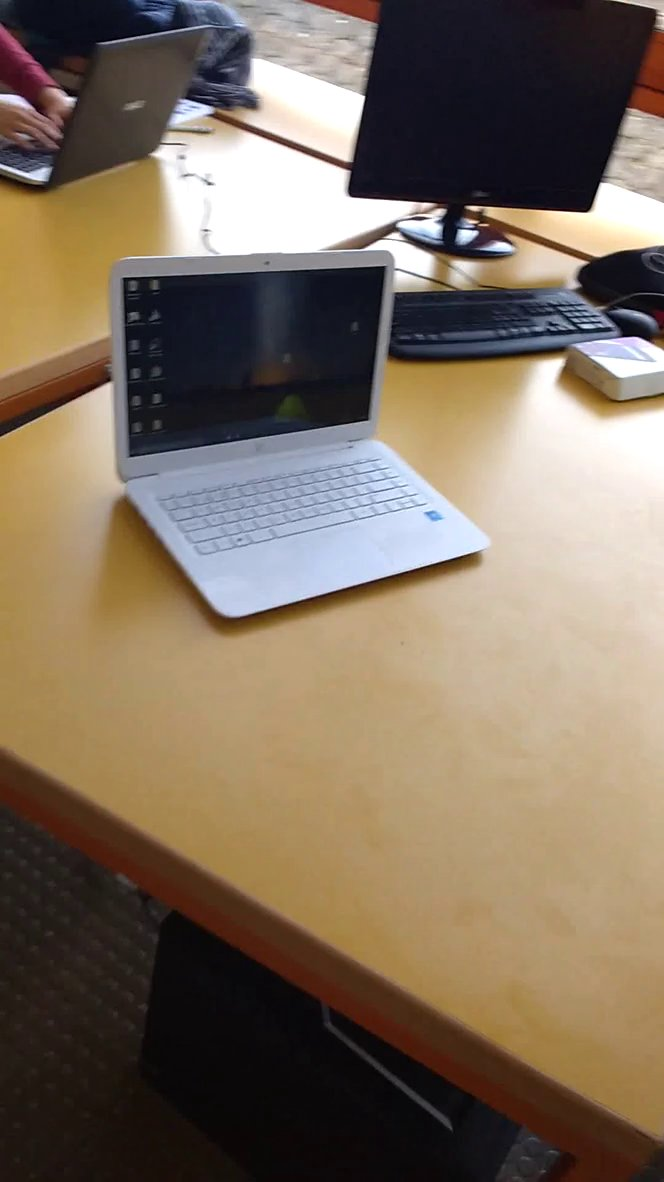laptop: (99, 241, 504, 646), (4, 13, 220, 200)
